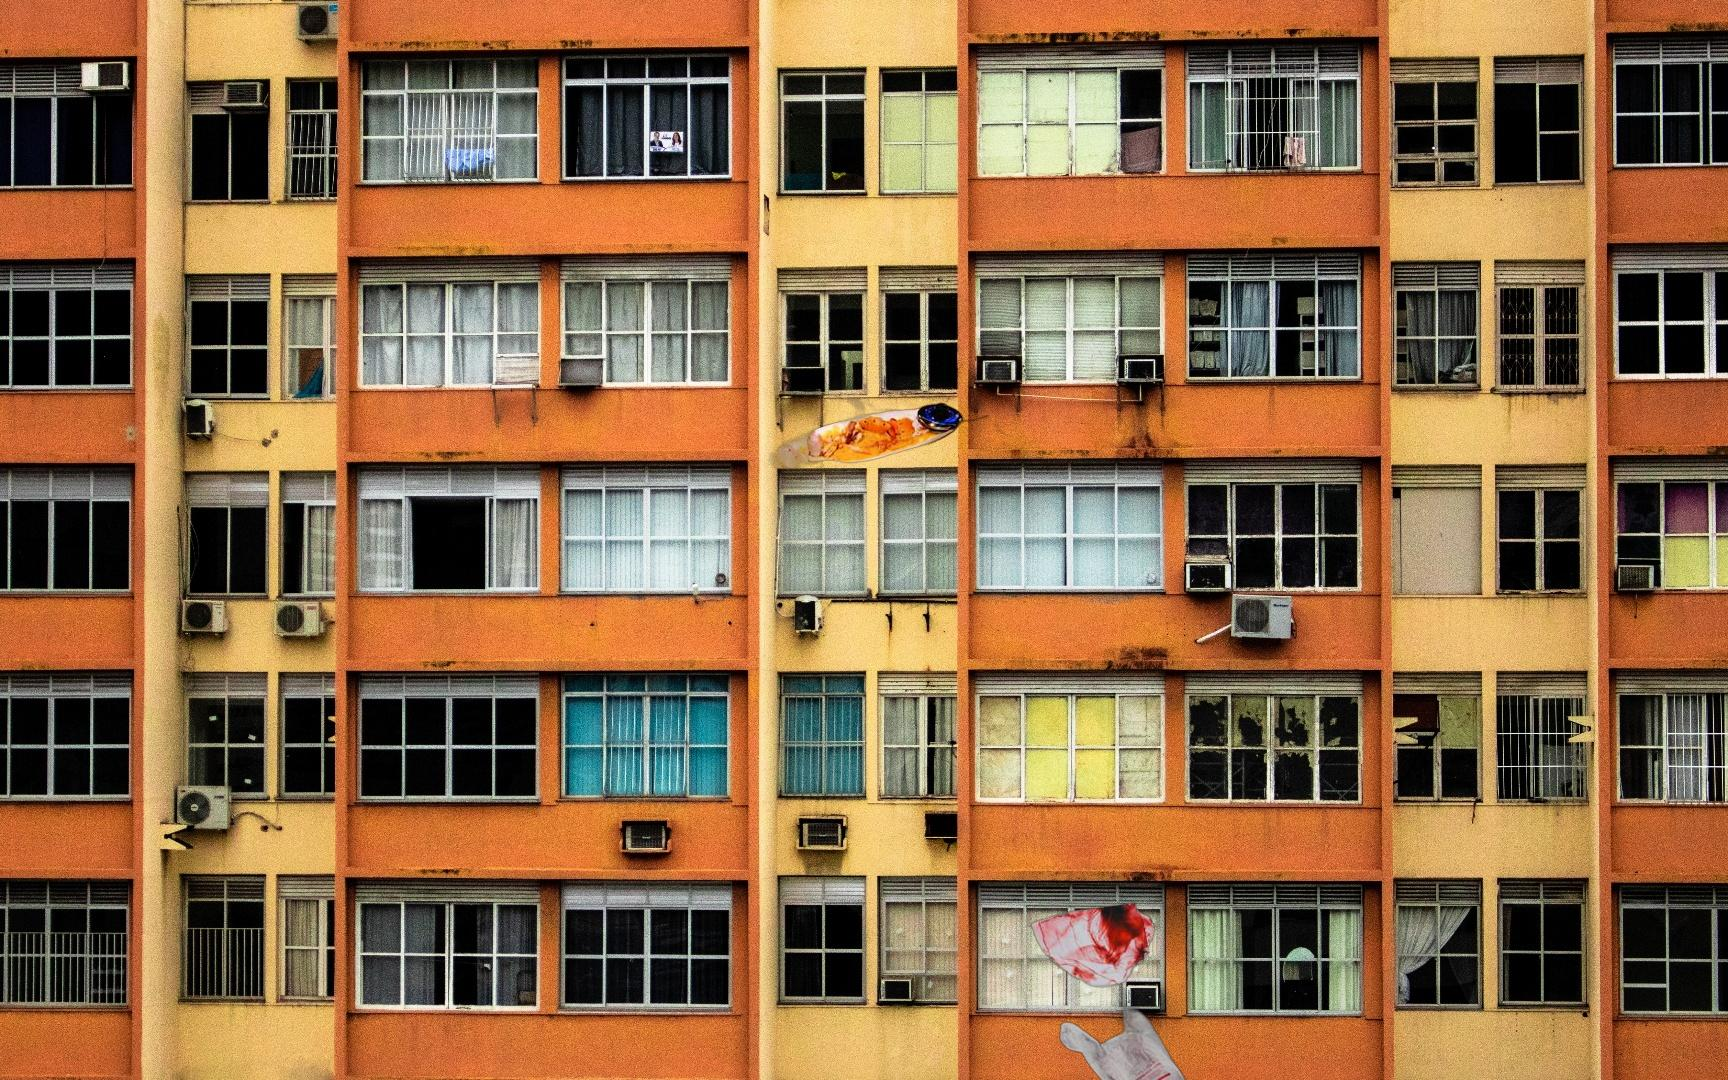biological: (759, 394, 1026, 519)
plastic-bag: (1028, 900, 1197, 1080)
